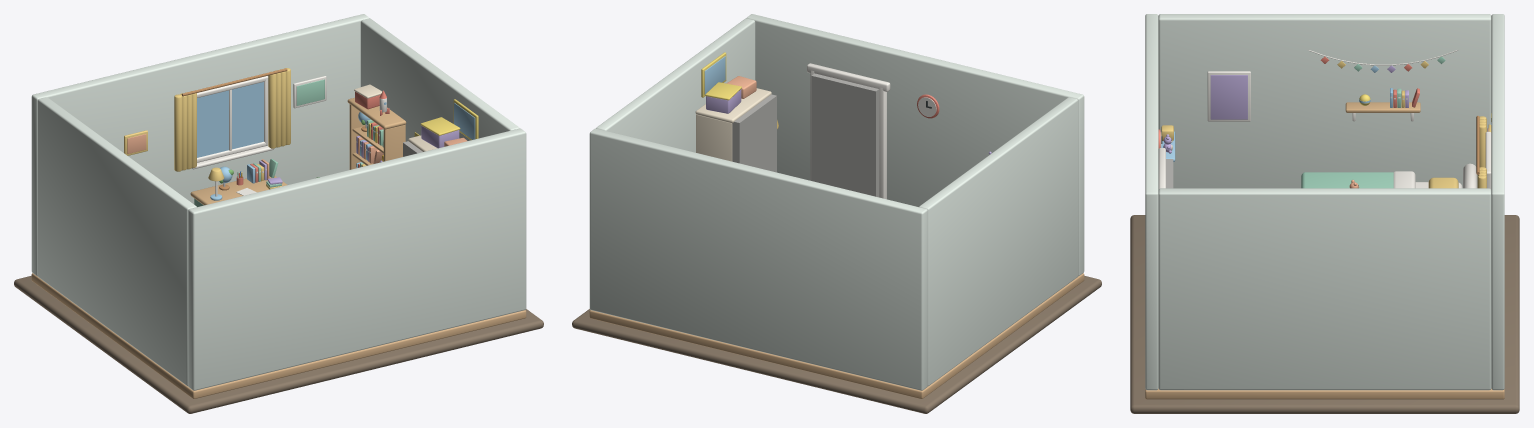
3 renders of one model, left to right at view 1: azimuth 30°, elevation 25°; view 2: azimuth 150°, elevation 25°; view 3: azimuth 270°, elevation 25°, orthographic. The views are drawn at different scales.
Parts seen in each view (by area): view 1: S01_ENV_Wall_S, S01_ENV_Wall_W, S01_ENV_Wall_N, S01_WALLDECO_Window, S01_ENV_Plinth, S01_ENV_Wall_E, S01_ENV_Floor, S01_FUR_Bookshelf, S01_FUR_Desk, S01_WALLDECO_Poster, S01_PROP_StorageBox, S01_WALLDECO_MapPoster (+3 smaller); view 2: S01_ENV_Wall_N, S01_ENV_Wall_W, S01_ENV_Wall_S, S01_ENV_Plinth, S01_ENV_Wall_E, S01_COL_INT_ExitDoor, S01_ENV_Floor, S01_FUR_Wardrobe, S01_WALLDECO_ExitDoorFrame, S01_COL_INT_WardrobeDoor, S01_COL_INT_WardrobeDoor02, S01_PROP_StorageBox (+1 smaller); view 3: S01_ENV_Wall_E, S01_ENV_Wall_W, S01_ENV_Plinth, S01_ENV_Wall_N, S01_ENV_Wall_S, S01_ENV_Floor, S01_WALLDECO_Frame, S01_PROP_Duvet, S01_WALLDECO_Window, S01_WALLDECO_WallShelf, S01_WALLDECO_Garland, S01_PROP_Books05.
Part boxes in pixels (x1,y1,x2,y2): S01_ENV_Wall_S: (188,128,526,390); S01_ENV_Wall_W: (37,97,196,386); S01_ENV_Wall_N: (31,14,369,276); S01_WALLDECO_Window: (174,68,290,171); S01_ENV_Plinth: (14,275,543,413); S01_ENV_Wall_E: (360,18,519,141); S01_ENV_Floor: (31,273,526,398); S01_FUR_Bookshelf: (347,97,406,169); S01_FUR_Desk: (190,176,287,206); S01_WALLDECO_Poster: (293,76,326,108); S01_PROP_StorageBox: (420,117,460,148); S01_WALLDECO_MapPoster: (453,99,478,140); S01_ENV_Wall_N: (589,128,927,390); S01_ENV_Wall_W: (919,97,1078,386); S01_ENV_Wall_S: (746,14,1084,276); S01_ENV_Plinth: (572,275,1101,413); S01_ENV_Wall_E: (596,18,755,152); S01_COL_INT_ExitDoor: (811,73,879,197); S01_ENV_Floor: (589,273,1084,398); S01_FUR_Wardrobe: (695,88,771,161); S01_WALLDECO_ExitDoorFrame: (807,63,890,199); S01_COL_INT_WardrobeDoor: (732,107,759,167); S01_COL_INT_WardrobeDoor02: (753,94,776,172); S01_PROP_StorageBox: (705,82,741,113); S01_ENV_Wall_E: (1158,188,1491,390); S01_ENV_Wall_W: (1158,14,1491,188); S01_ENV_Plinth: (1130,215,1519,413); S01_ENV_Wall_N: (1491,14,1504,390); S01_ENV_Wall_S: (1145,14,1158,390); S01_ENV_Floor: (1145,388,1504,399); S01_WALLDECO_Frame: (1207,71,1250,121); S01_PROP_Duvet: (1301,171,1415,188); S01_WALLDECO_Window: (1476,116,1491,189); S01_WALLDECO_WallShelf: (1345,102,1420,121); S01_WALLDECO_Garland: (1308,49,1458,72); S01_PROP_Books05: (1390,88,1419,107).
Size of the model in its own units: 5.48 by 2.86 by 4.68.
